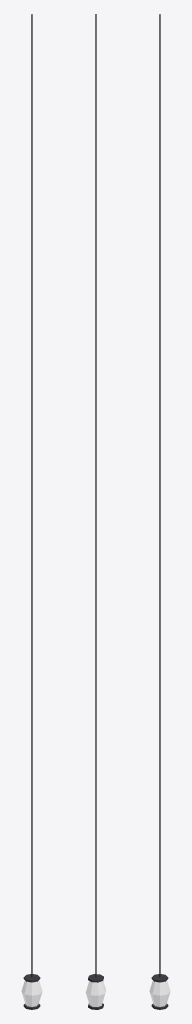
File: keel_lantern_26m.glb
3 views of the same model, side by side, from view 1: azimuth 90°, elevation 25°; view 2: azimuth 150°, elevation 25°; view 3: azimuth 270°, elevation 25° (orthographic).
Parts seen in each view (by area): view 1: keel_lantern_26m; view 2: keel_lantern_26m; view 3: keel_lantern_26m.
Part boxes in pixels (x1,y1,x2,y2): keel_lantern_26m: [21, 14, 42, 1009]; keel_lantern_26m: [85, 14, 106, 1009]; keel_lantern_26m: [149, 14, 170, 1009].
Bounding box in the file's own units: 0.52 × 26.76 × 0.52.
2 materials, 1 textured.
